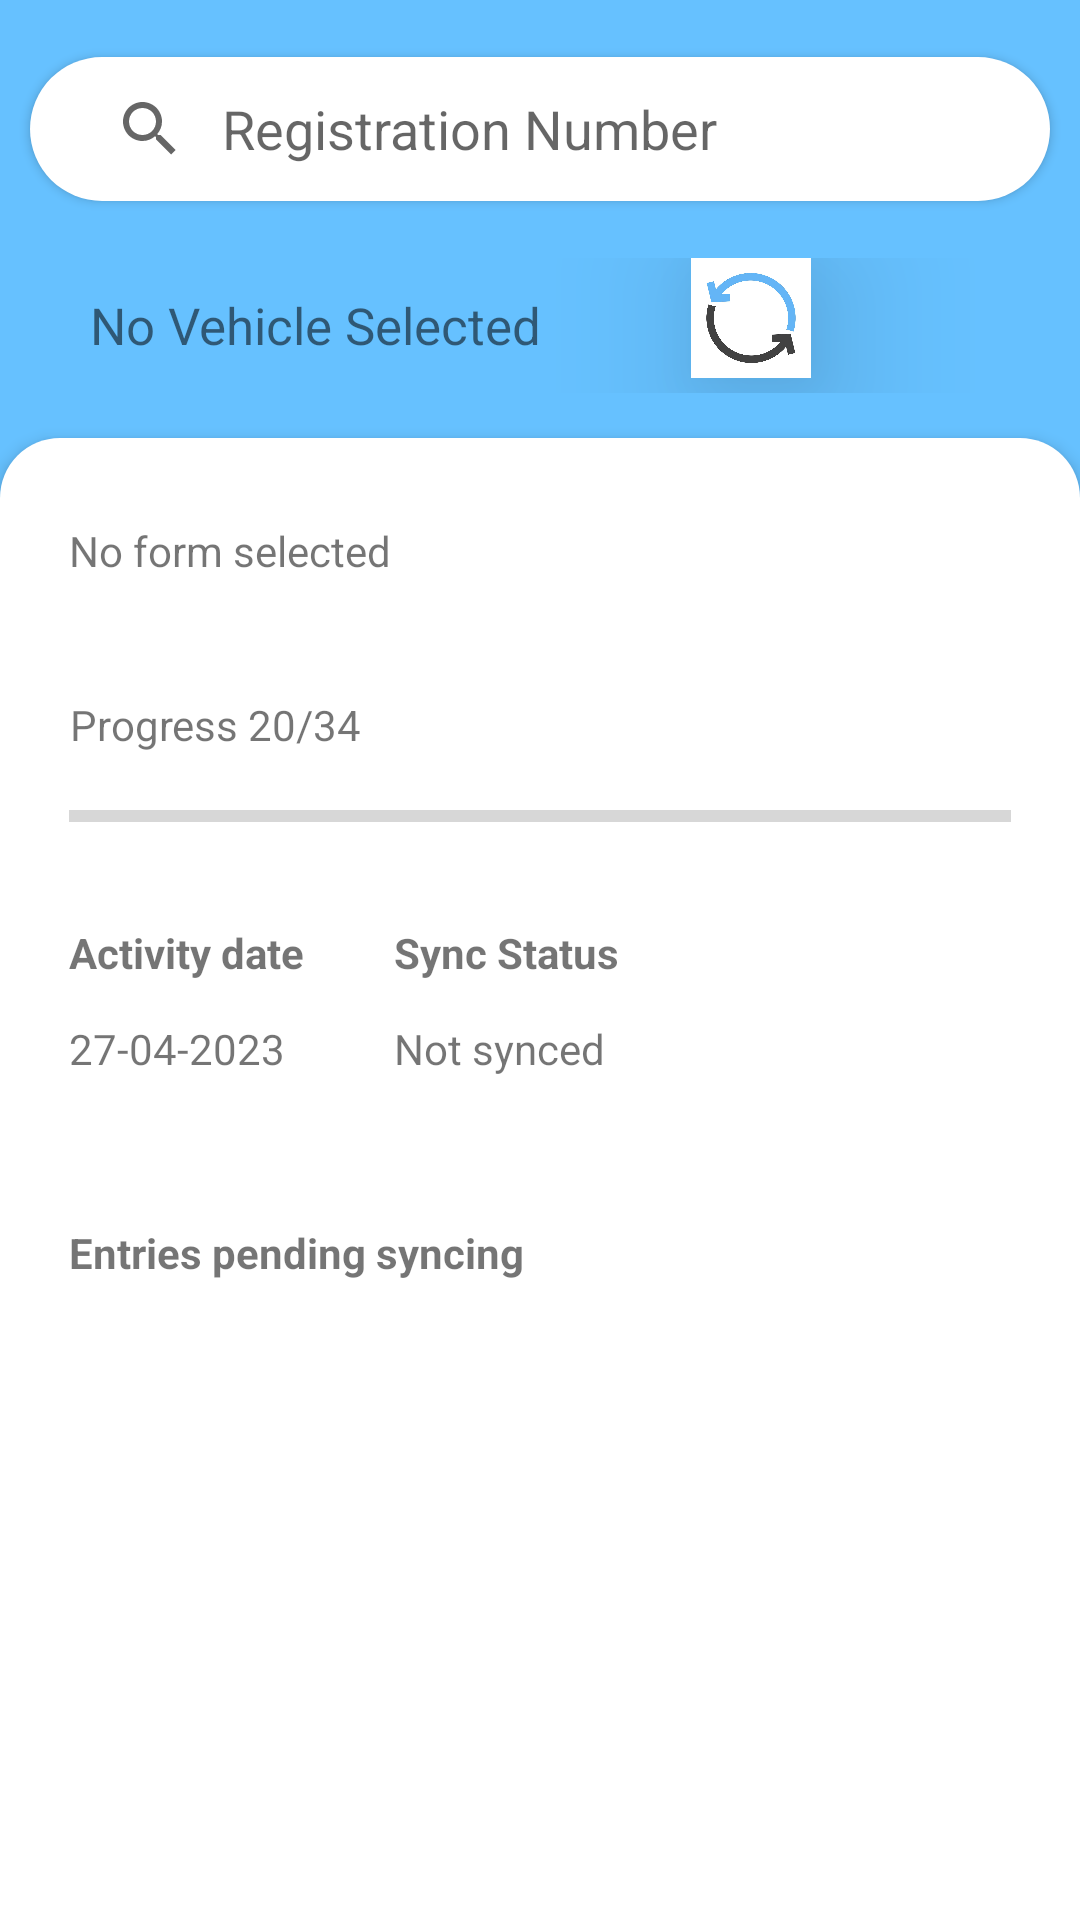

Icon click points for this 1080px x 1920px phone screenshot, format point (x, y):
syncicon: point (751, 318)
